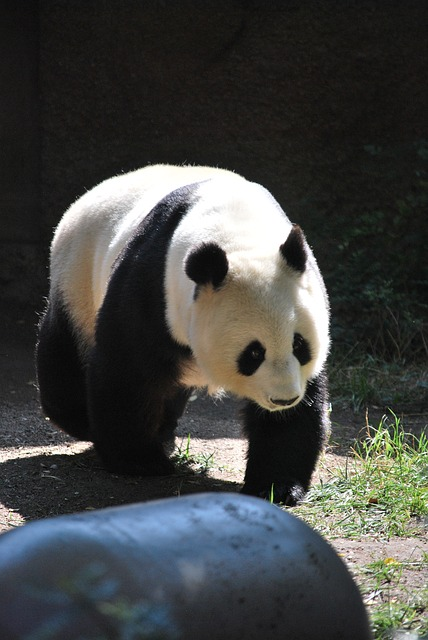panda: (35, 160, 350, 506)
